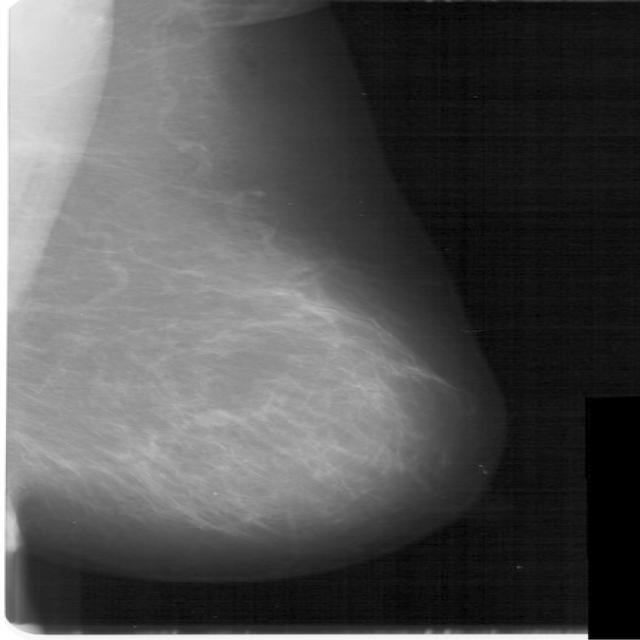tumour: (189, 407, 231, 428)
